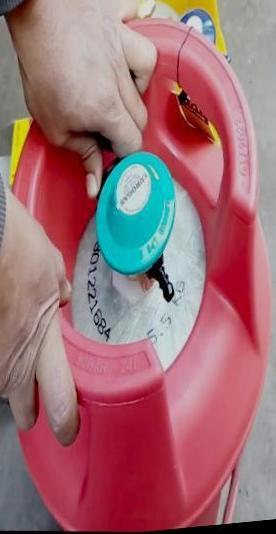cylinder: (1, 1, 276, 534)
